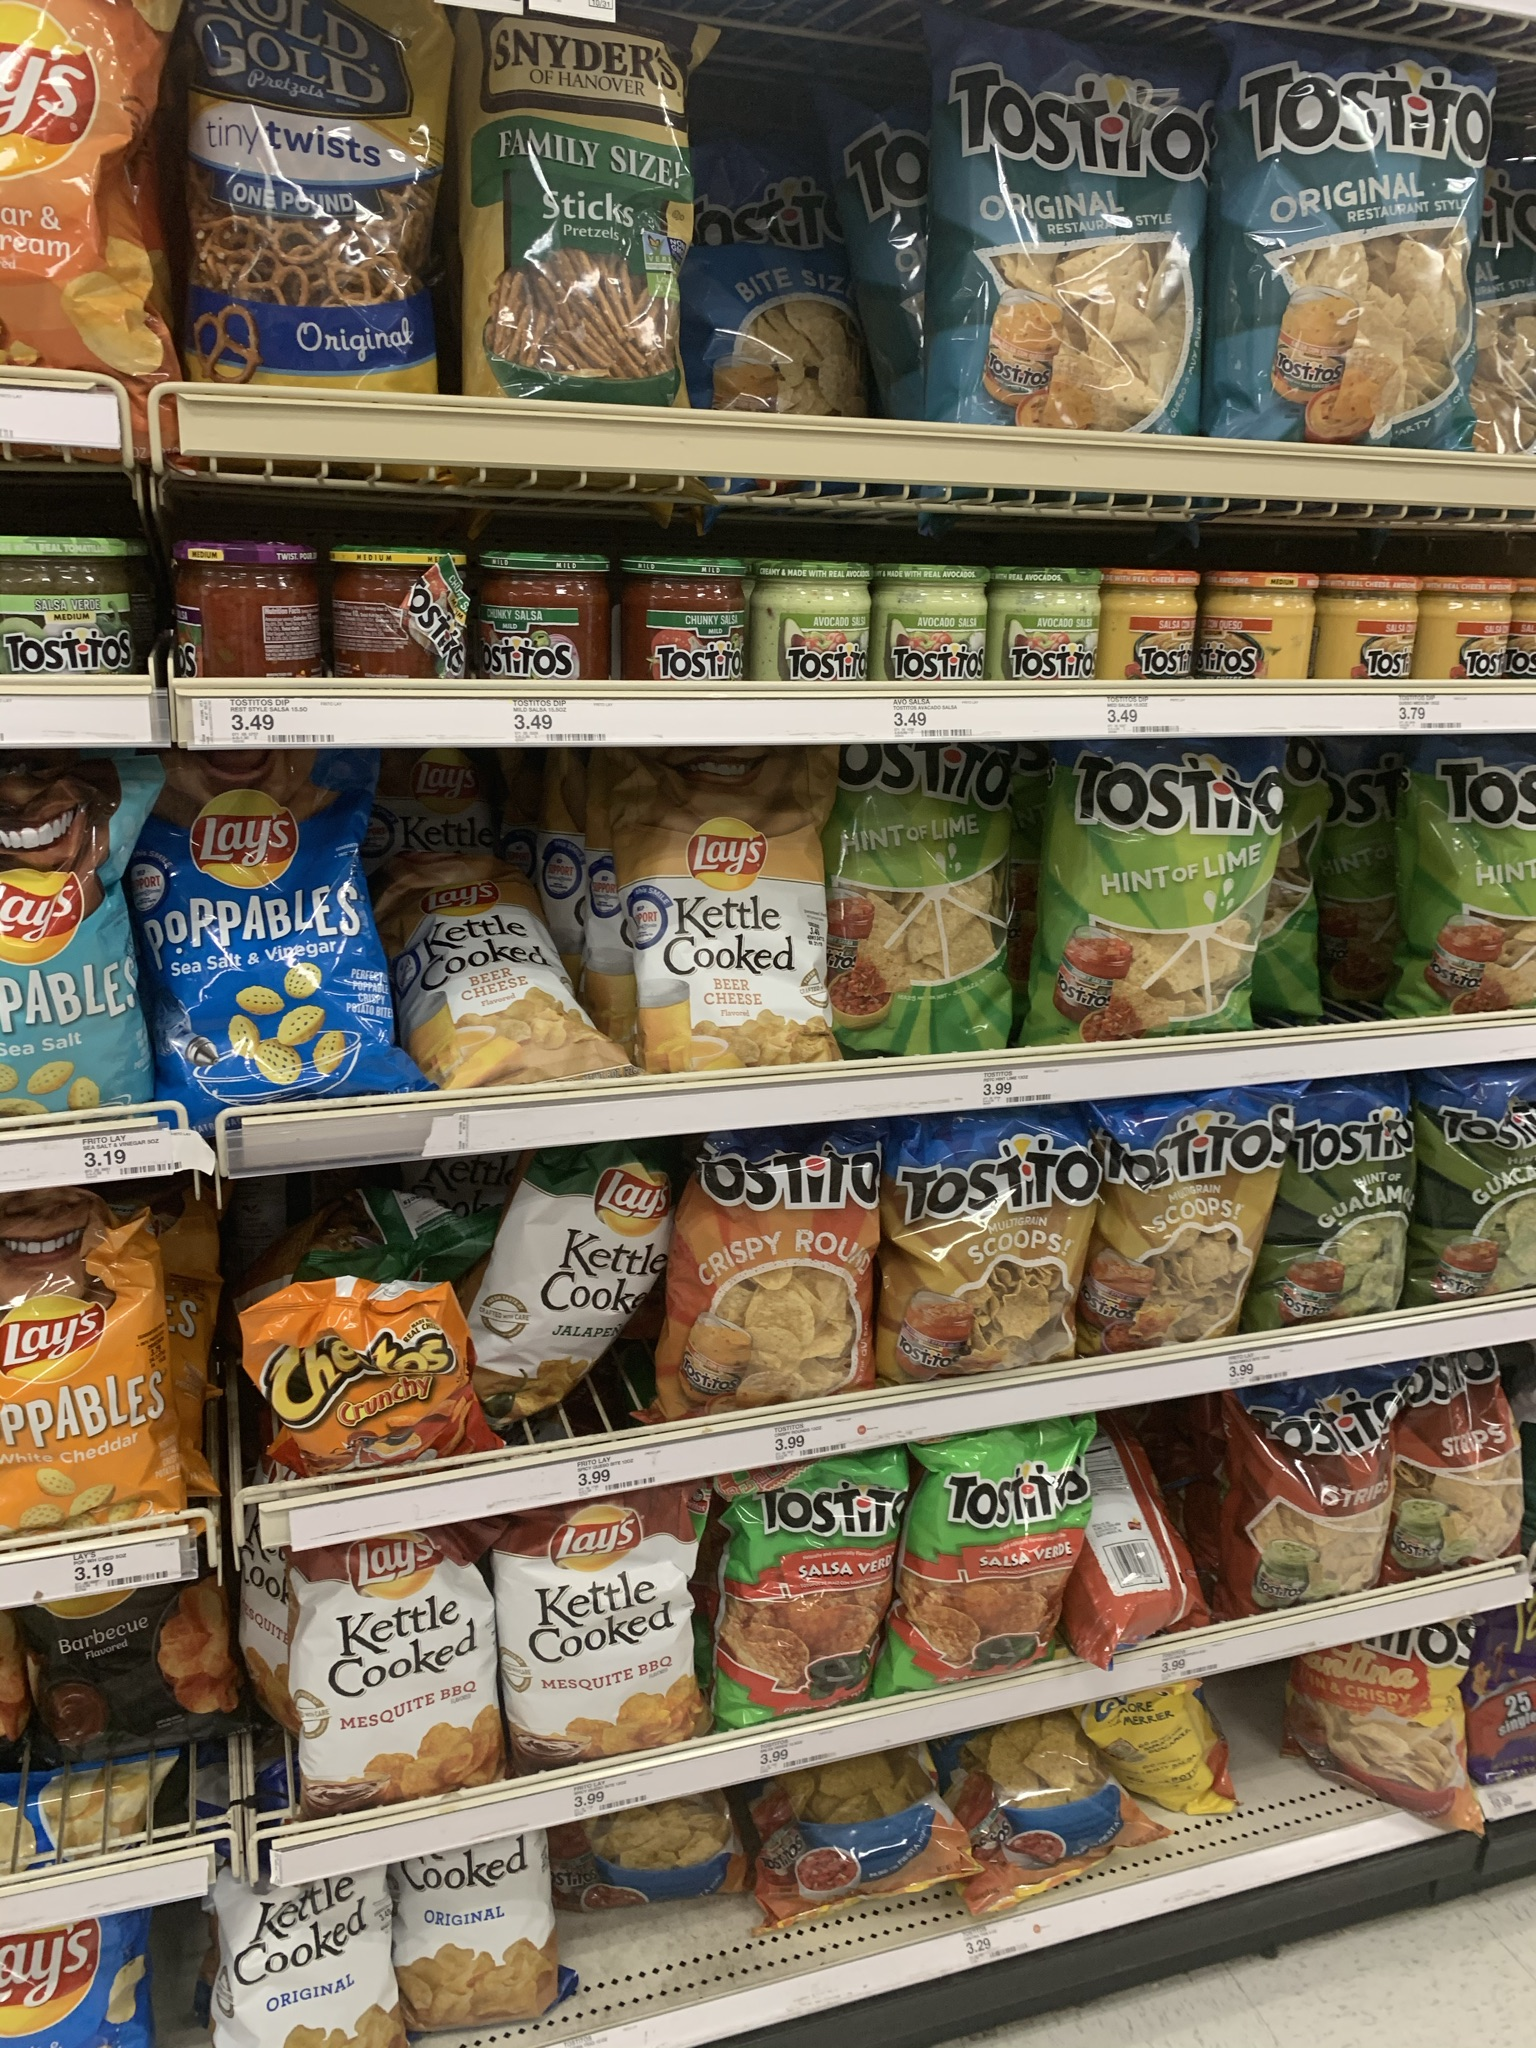chip: (942, 40, 1192, 440), (1231, 40, 1459, 456), (1039, 755, 1291, 1043), (168, 748, 369, 1106), (836, 734, 1037, 1051), (678, 1135, 894, 1422), (2, 760, 160, 1109), (878, 1438, 1073, 1675), (897, 1126, 1063, 1361), (1394, 739, 1536, 1006), (745, 1466, 887, 1721), (1238, 1379, 1394, 1606), (1099, 1108, 1239, 1350), (1383, 1353, 1536, 1551), (1286, 1085, 1412, 1314)
